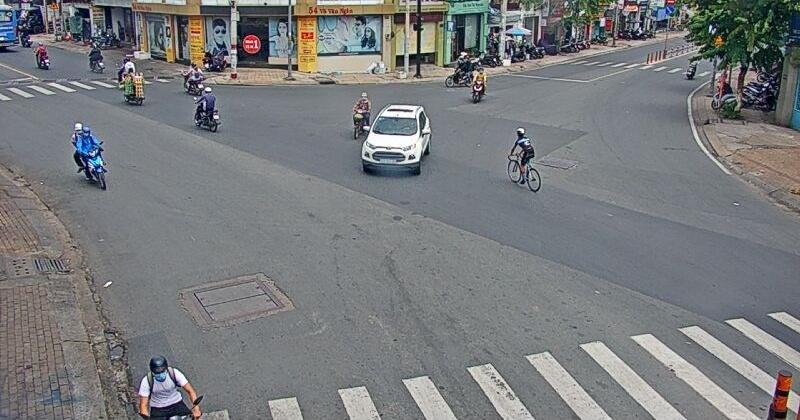xe dap: (507, 127, 541, 193)
xe hoi: (361, 102, 430, 175)
xe may: (70, 122, 107, 190), (194, 87, 221, 132), (352, 92, 370, 141), (472, 68, 487, 103)
